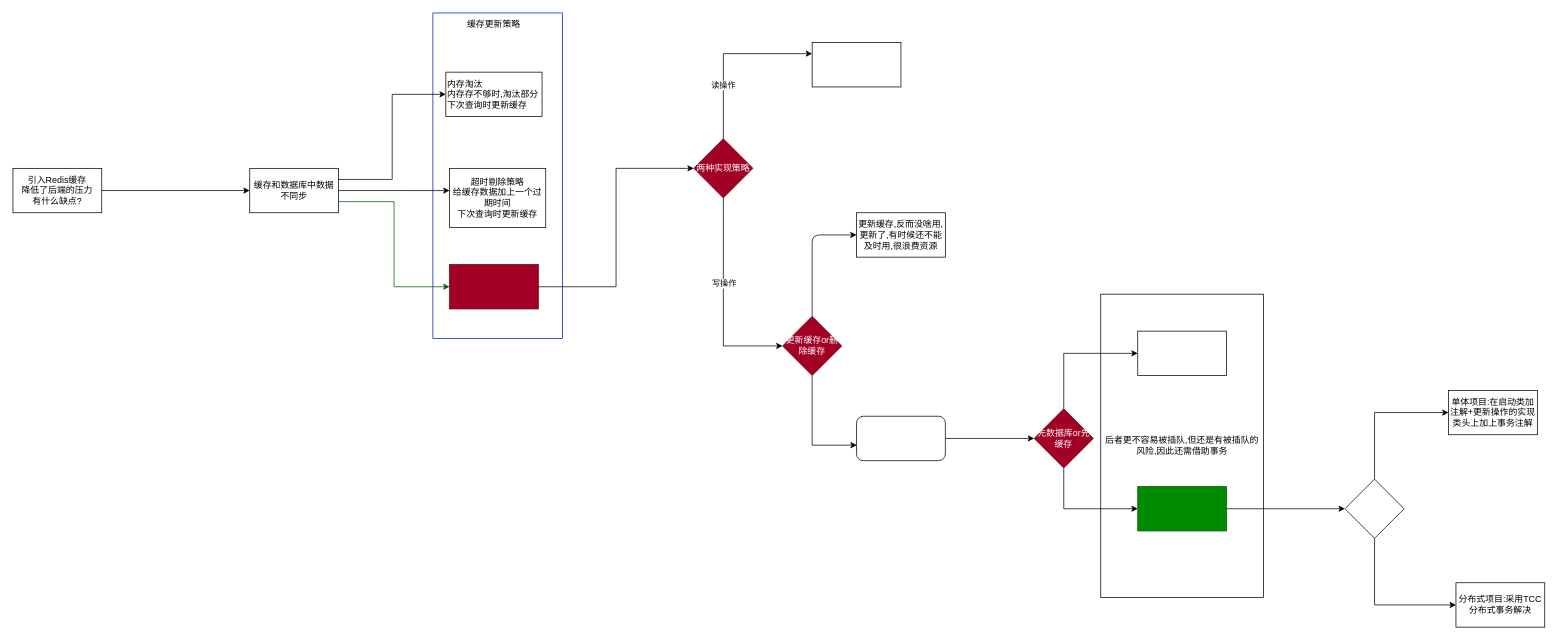
Image size: 1558x640. Some labels were removed from this diagram. Here are the shapes that lost their labels. From the top down, the box of each, then its label:
(811, 42, 901, 87): 从数据库读取后,再往缓存中去写
(449, 264, 538, 309): 主动更新策略
(1137, 330, 1227, 376): 先删缓存再更新数据库
(856, 416, 945, 461): 删除缓存,等查询的时候,再写入(不做无用功)
(1137, 486, 1227, 531): 先更新数据库,再删缓存
(1344, 478, 1404, 538): 采用原子性操作,解决插队问题
